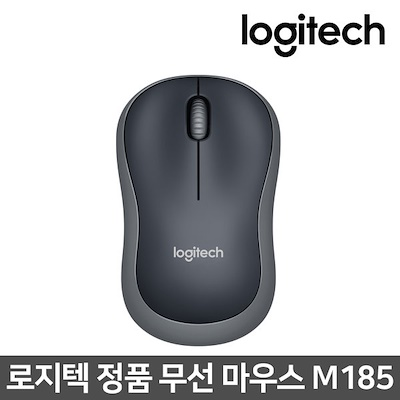logitech-mouse-m185: (114, 74, 285, 343)
